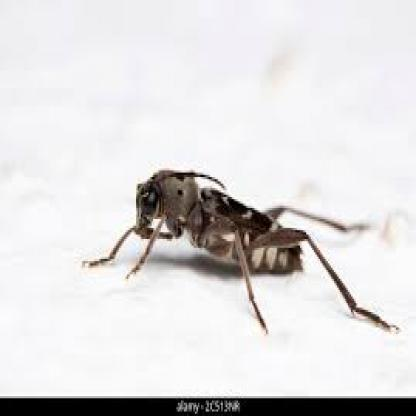sawfly: (80, 165, 404, 341)
